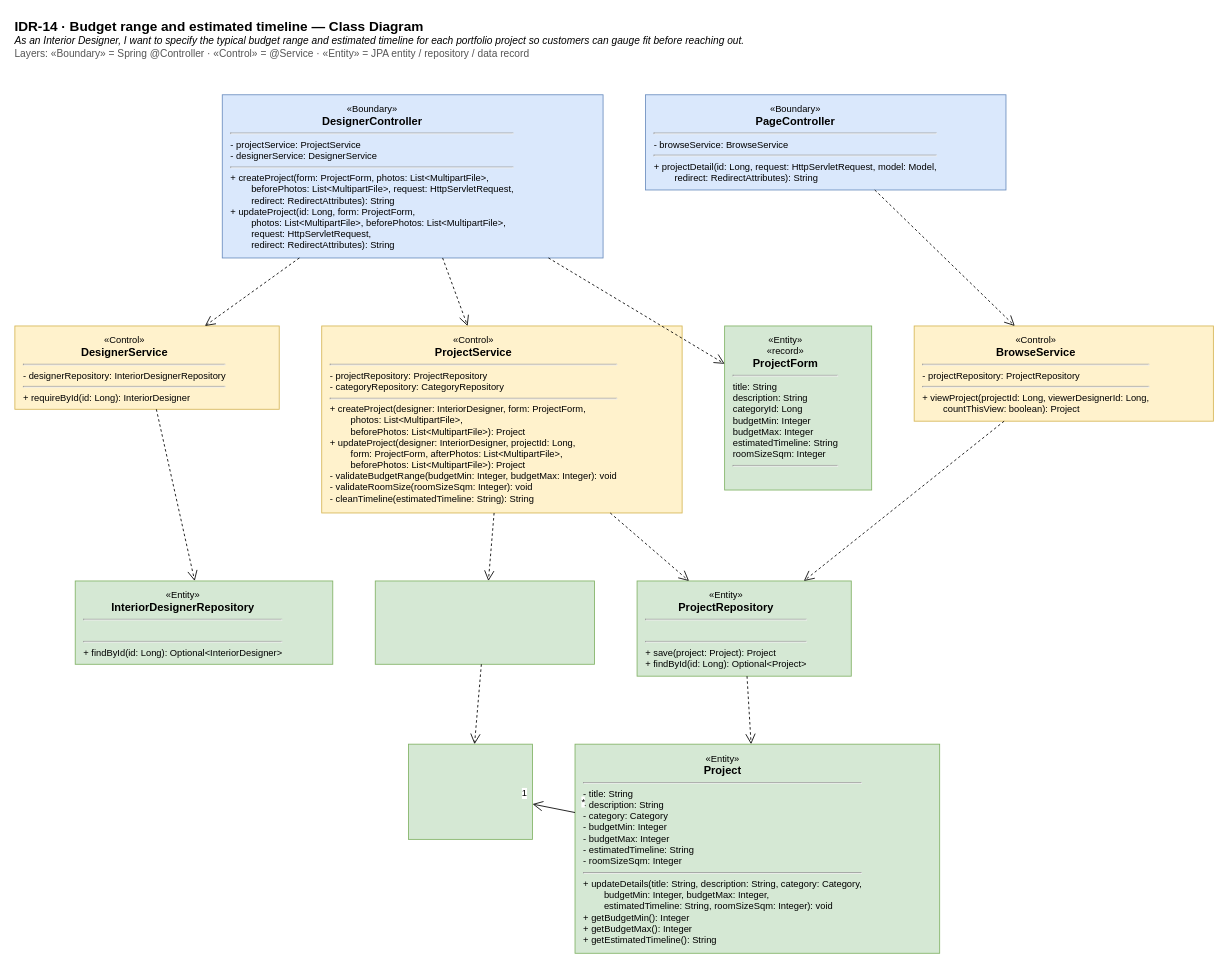
Some shapes in this 1228 by 968 pixel diagram are drawn without their labels. Here are the shapes that lost their labels. From the top down, the centre of each, then its label:
point (484, 622): «Entity» CategoryRepository + findById(id: Long): Optional<Category>
point (470, 791): «Entity» Category - name: String - active: boolean + isActive(): boolean
